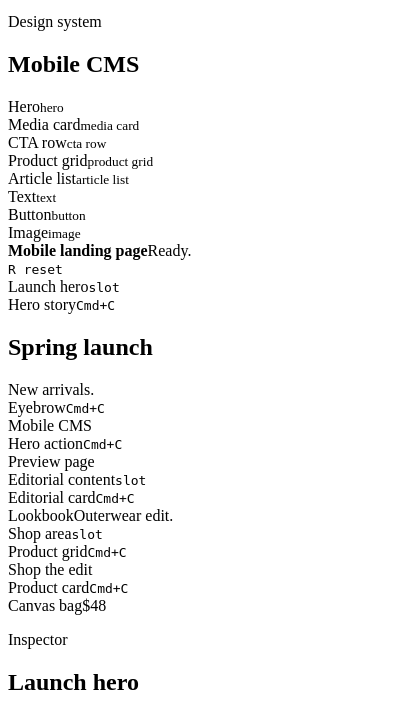
mobile CMS usable editing surface › cuts an only child and falls back to its parent slot
Expected: the heading "Mobile CMS" is shown, [8, 51, 139, 77]
Click the element with class "block-productGrid" at [68, 578], box [8, 543, 128, 614]
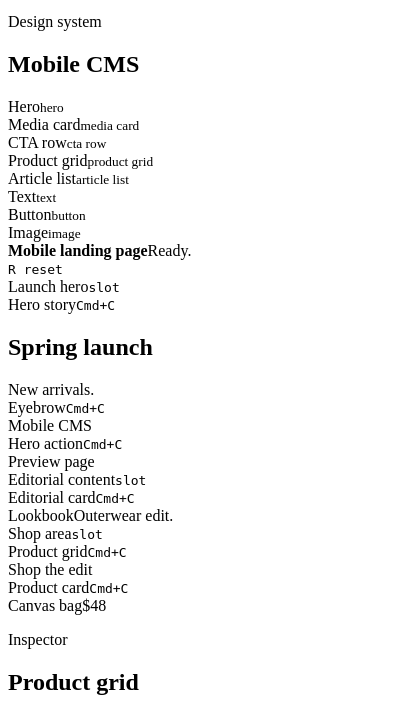
Type keys "{Control>}x{/Control}"
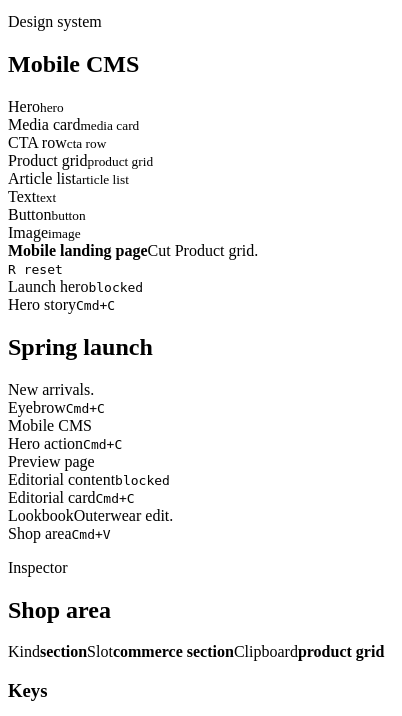
Expected: no elements with class "block-productGrid" are shown
Expected: the heading "Shop area" is shown, [8, 596, 111, 622]
